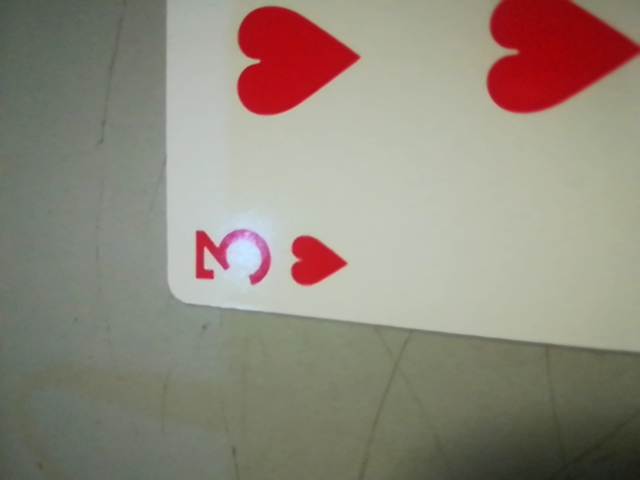hx 3: (174, 219, 346, 301)
